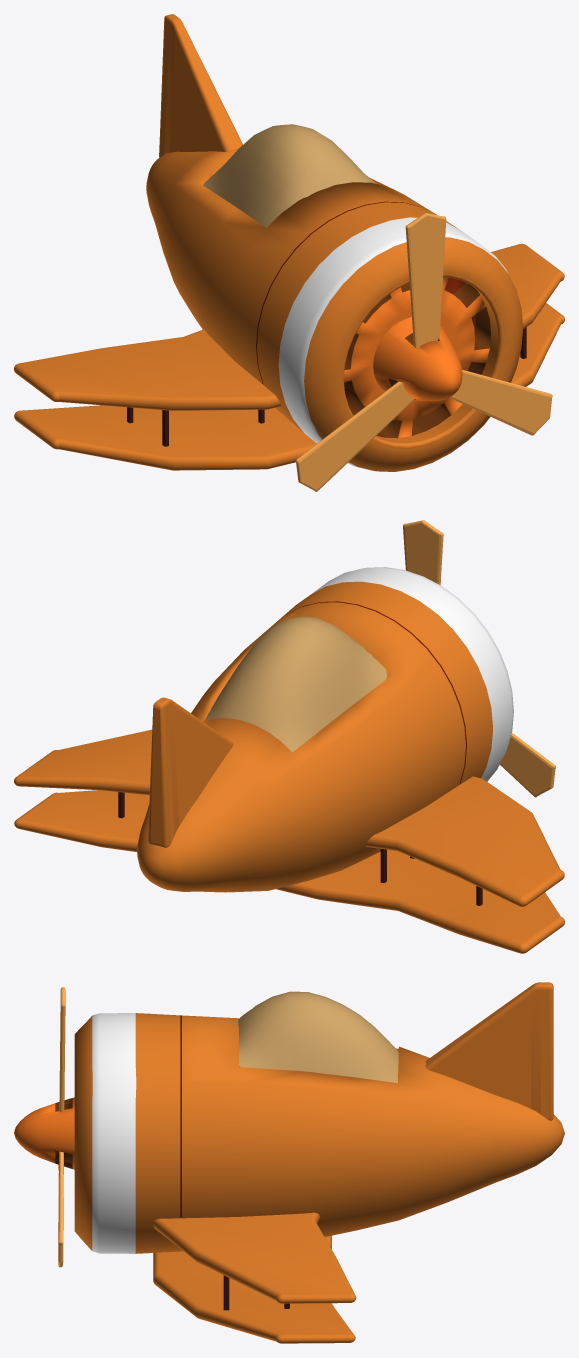
3 renders of one model, top to bottom at view 1: azimuth 30°, elevation 25°; view 2: azimuth 150°, elevation 25°; view 3: azimuth 270°, elevation 25°, orthographic. The views are drawn at different scales.
Visible parts, largest first — view 1: Body, Blade; view 2: Body, Blade; view 3: Body, Blade.
Boxes of the visible parts, box(x1,y1,x2,y2) form: Body: box(14, 14, 564, 471); Blade: box(295, 212, 552, 491); Body: box(14, 567, 564, 953); Blade: box(403, 520, 555, 797); Body: box(74, 982, 564, 1343); Blade: box(14, 987, 74, 1267).
Bounding box in the file's own units: 8.18 × 4.23 × 8.14.
